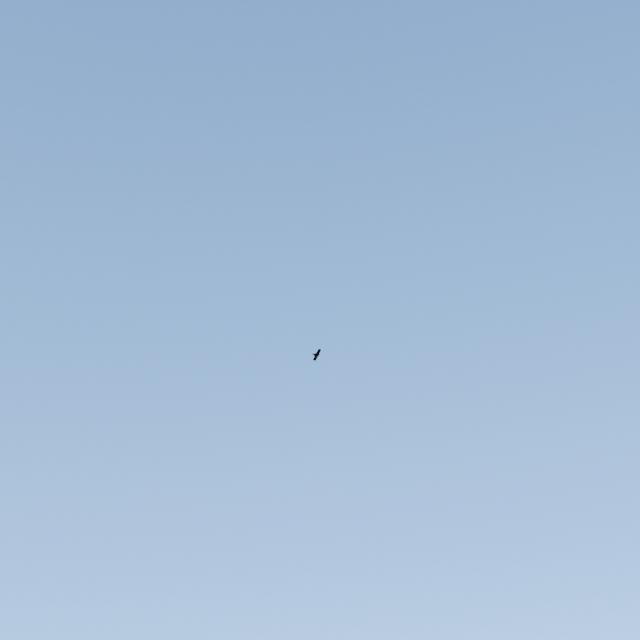Airaplan: (312, 349, 323, 362)
